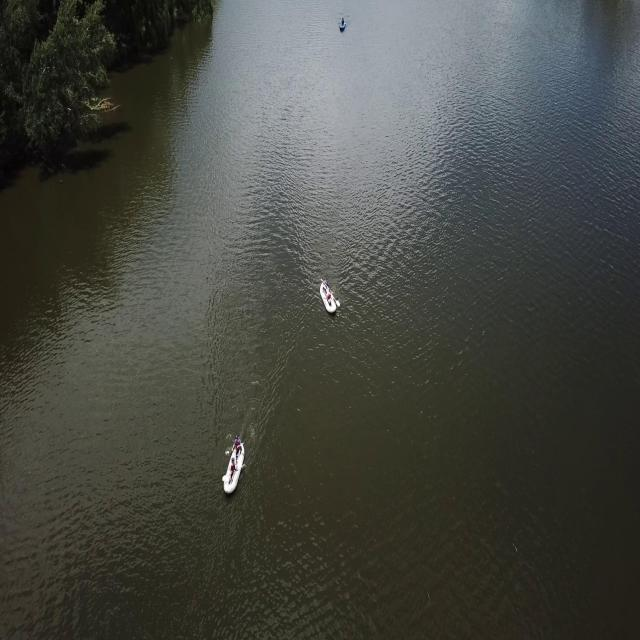kayak: (221, 437, 249, 500), (317, 278, 341, 318), (338, 15, 348, 35)
